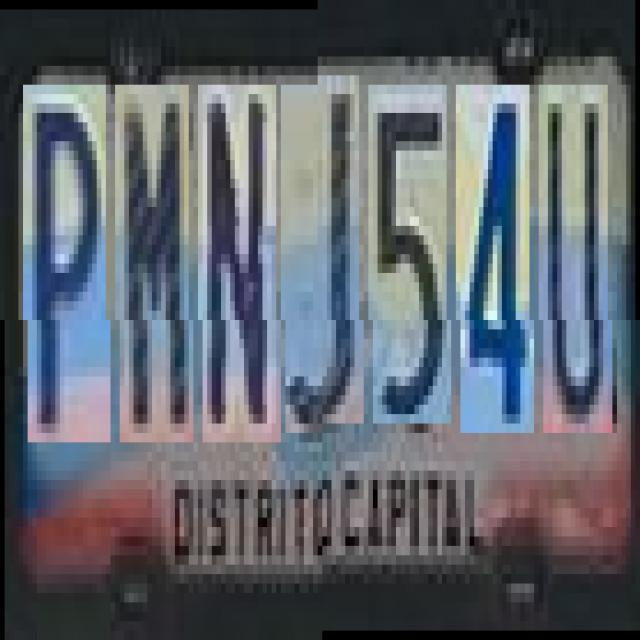4: (460, 94, 534, 442)
5: (373, 94, 451, 433)
J: (285, 85, 364, 433)
M: (120, 85, 193, 442)
N: (202, 85, 281, 442)
P: (28, 85, 110, 442)
U: (544, 94, 612, 442)
